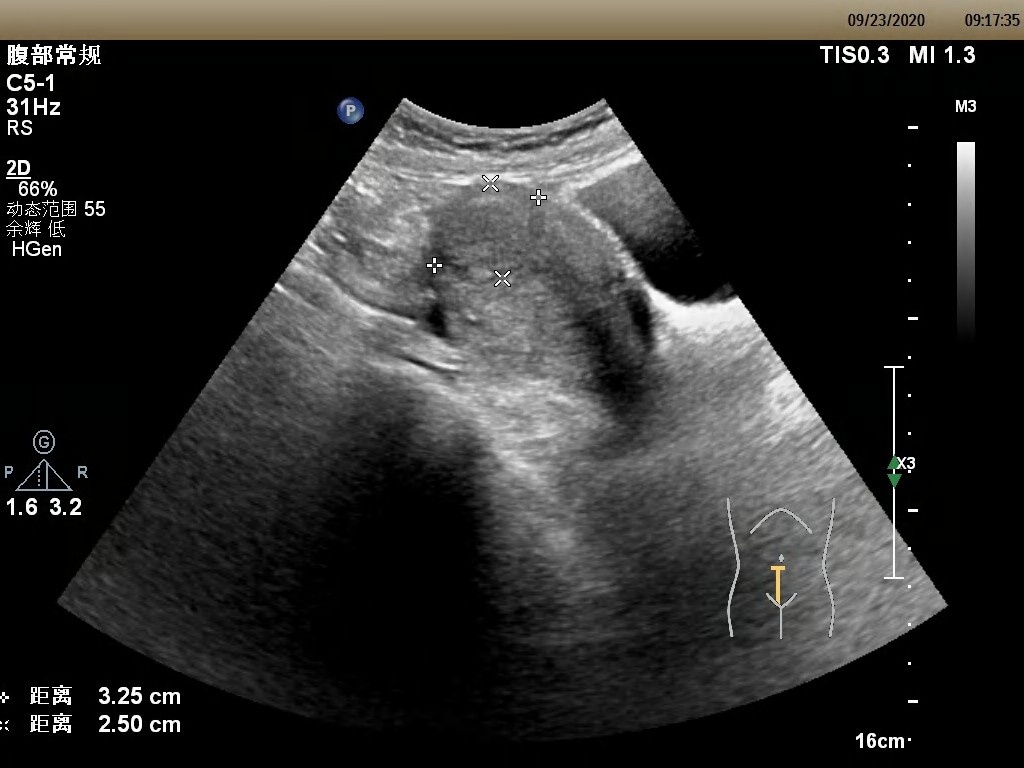肌瘤: (438, 191, 538, 270)
